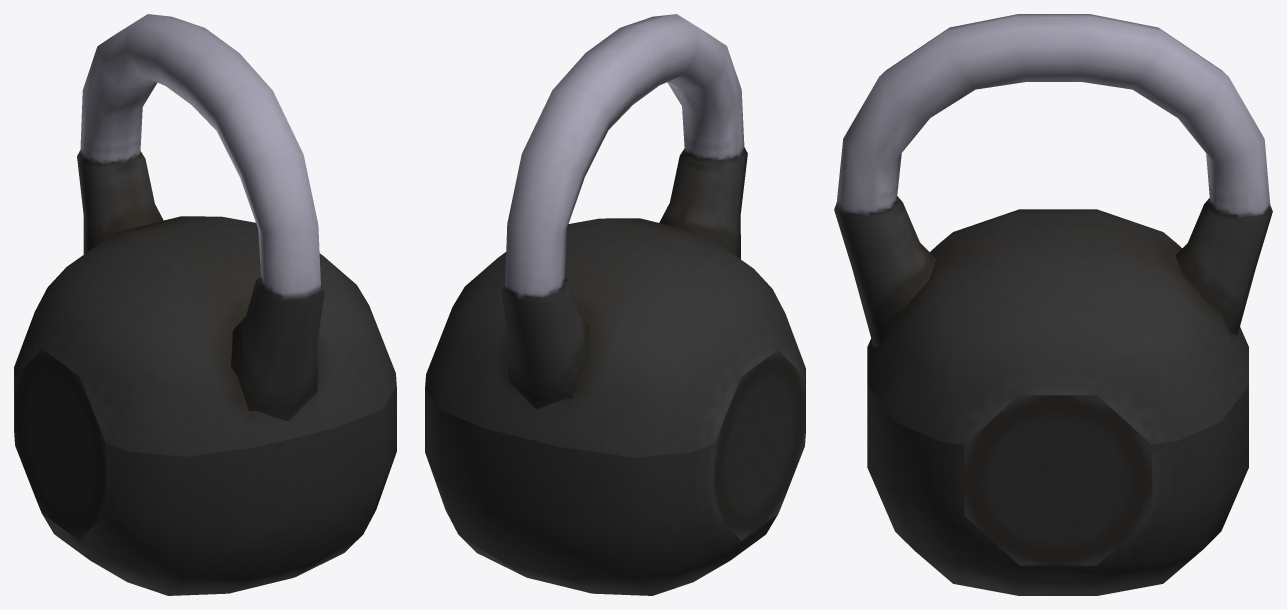
Rendered from MSH_KettleBell_01.FBX.
3 views of the same model, side by side, from view 1: azimuth 30°, elevation 25°; view 2: azimuth 150°, elevation 25°; view 3: azimuth 270°, elevation 25° (orthographic). The views are drawn at different scales.
Visible parts, largest first — view 1: MSH_KettleBell_01; view 2: MSH_KettleBell_01; view 3: MSH_KettleBell_01.
Part boxes in pixels (box(x1,y1,x2,y2)): MSH_KettleBell_01: box(14, 14, 396, 595); MSH_KettleBell_01: box(425, 14, 805, 595); MSH_KettleBell_01: box(834, 14, 1272, 595).
Size of what is drawn, in the model's own units: 16.93 by 21.48 by 28.8.
